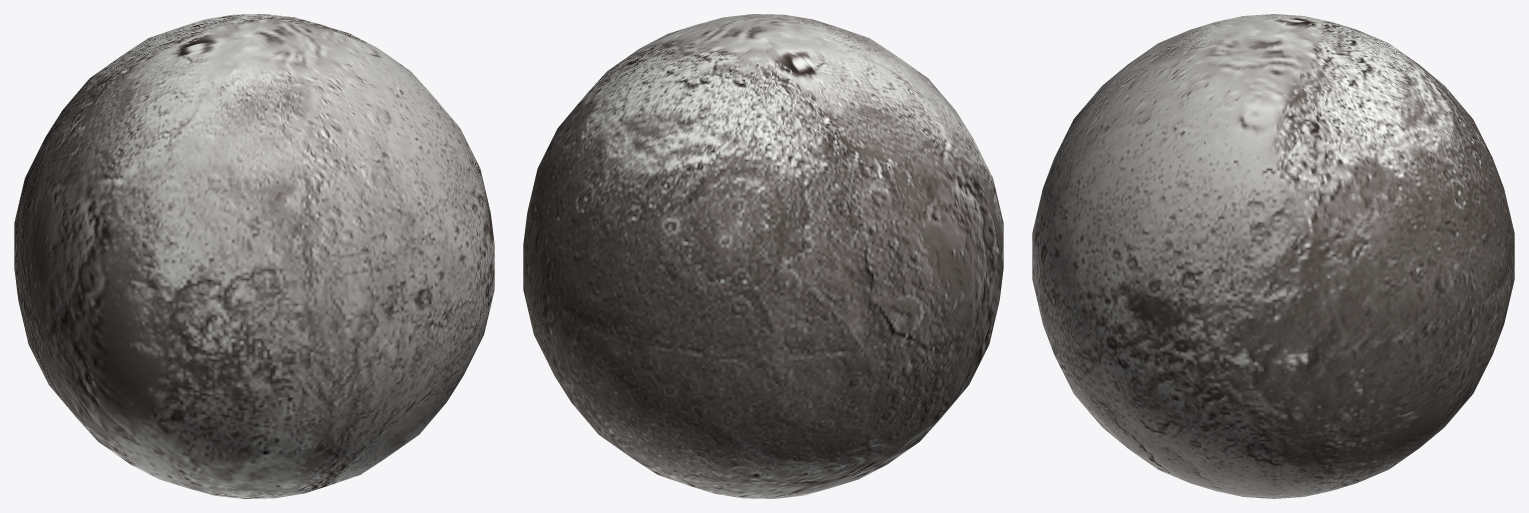
Rendered from AsteroidY.obj.
The picture shows the model from 3 angles, left to right: view 1: azimuth 30°, elevation 25°; view 2: azimuth 150°, elevation 25°; view 3: azimuth 270°, elevation 25°; orthographic projection.
Bounding box in the file's own units: 1.99 × 2 × 1.99.
1 material, 1 textured.
